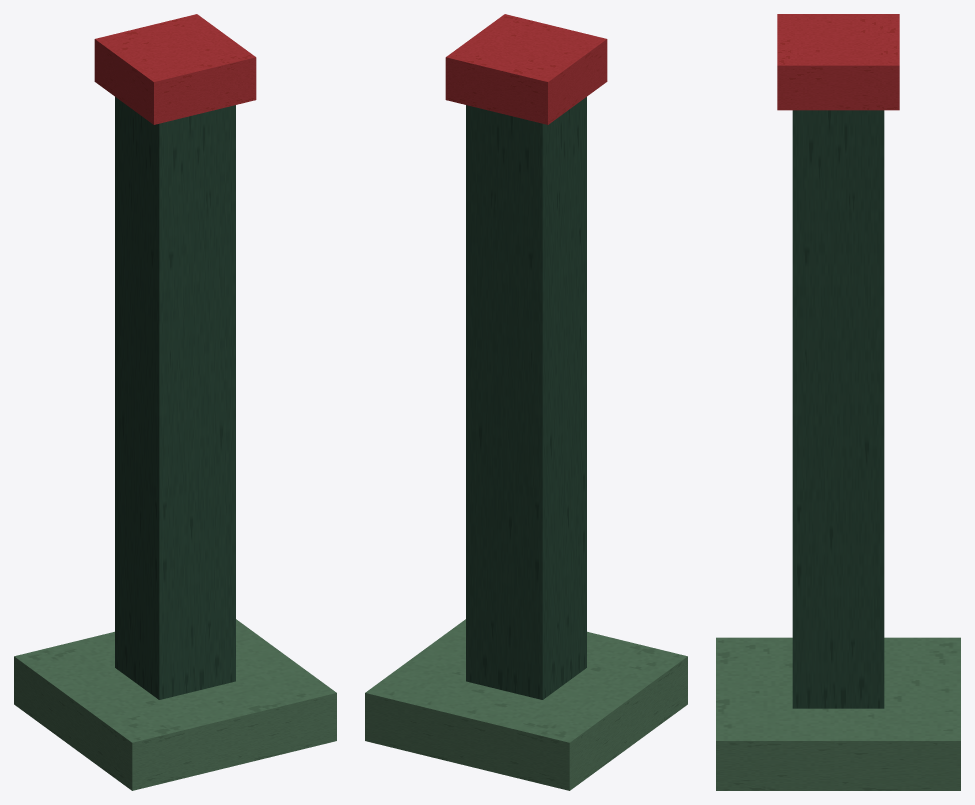
File: RailPost.fbx
3 views of the same model, side by side, from view 1: azimuth 30°, elevation 25°; view 2: azimuth 150°, elevation 25°; view 3: azimuth 270°, elevation 25° (orthographic). The views are drawn at different scales.
Parts seen in each view (by area): view 1: RailPost; view 2: RailPost; view 3: RailPost.
Boxes of the visible parts, x1,y1,x2,y2 form: RailPost: [14, 14, 336, 790]; RailPost: [365, 14, 687, 790]; RailPost: [716, 14, 960, 790].
Bounding box in the file's own units: 40 × 126 × 40.
